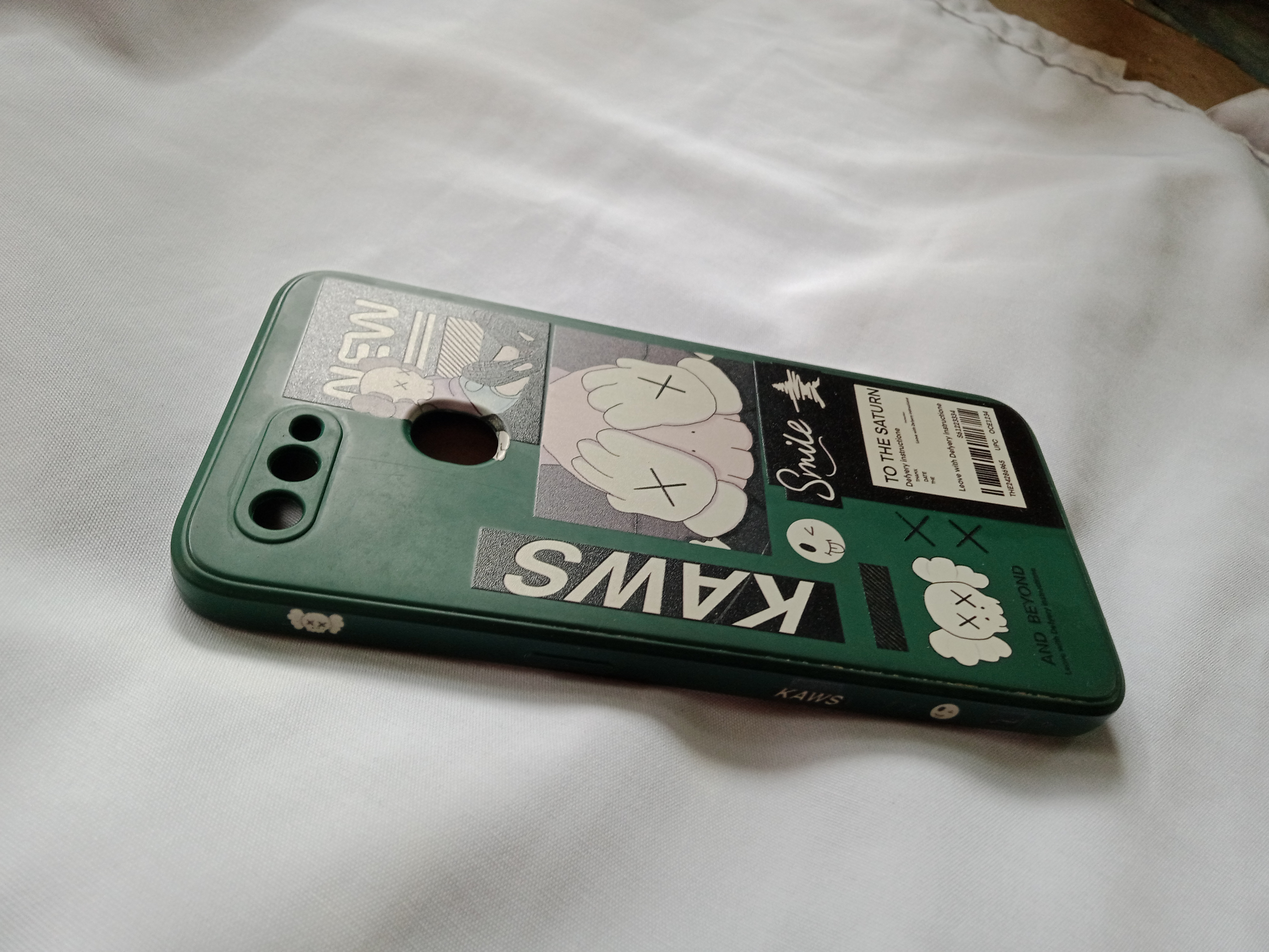plastic: (79, 125, 1208, 836)
